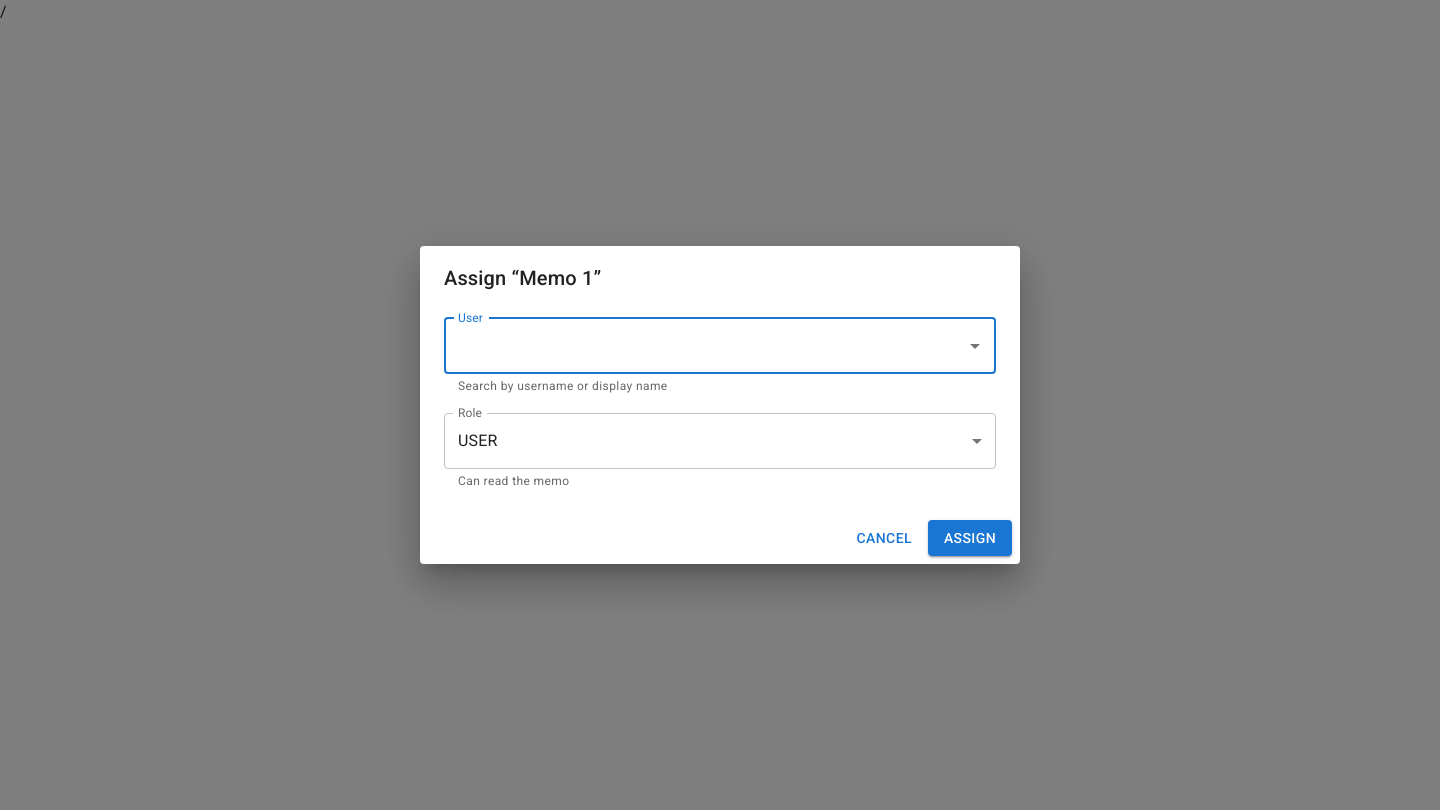
Test: AssignMemoDialog › a memo ADMIN can give the roles ["USER","MOD","ADMIN"]
This screenshot has width=1440, height=810.
Step 1. Click the dropdown named "Role" → x=478, y=441, box [458, 431, 497, 450]
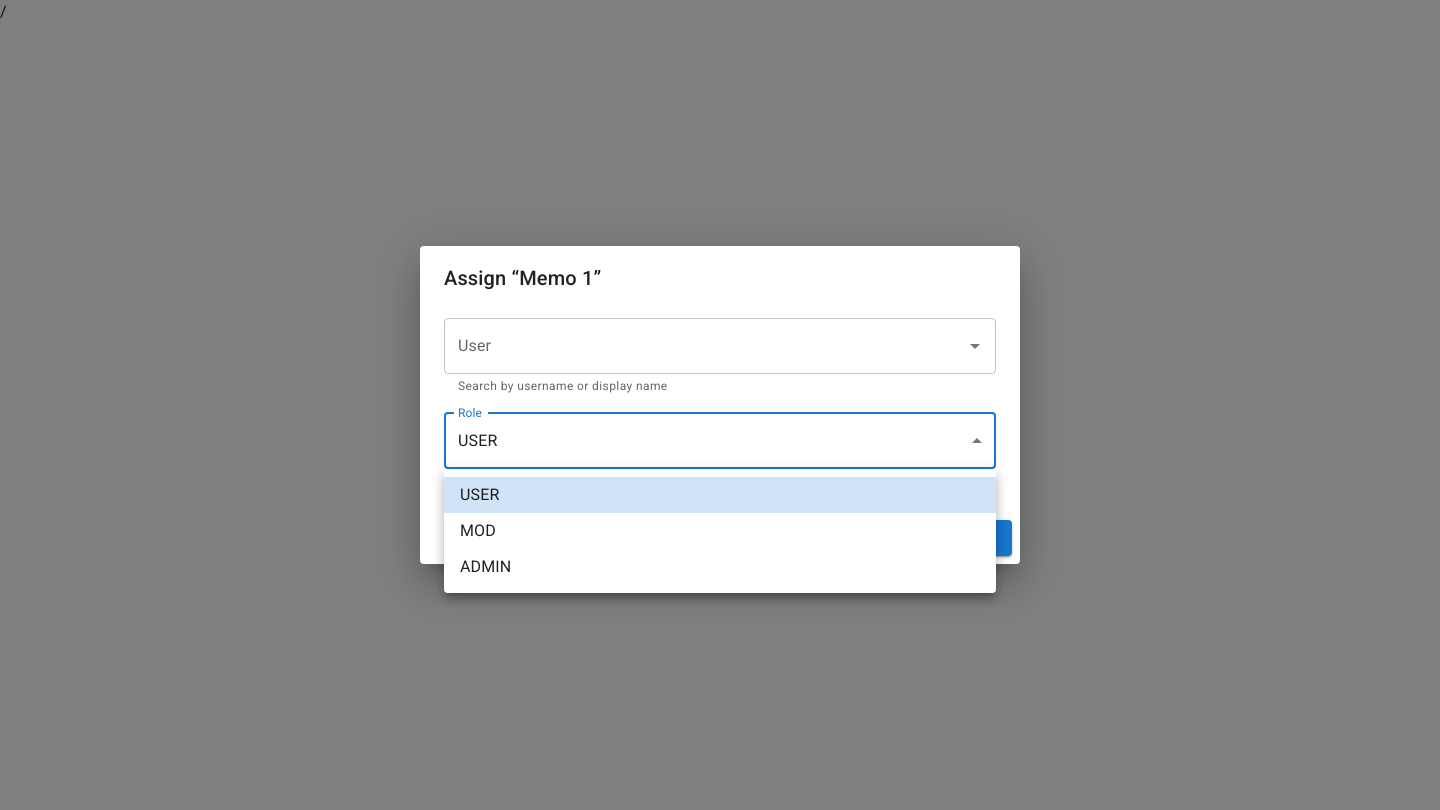
expect the options read "USER", "MOD", "ADMIN", in this order: met, box [444, 477, 996, 513]; [460, 521, 496, 540]; [460, 557, 511, 576]
